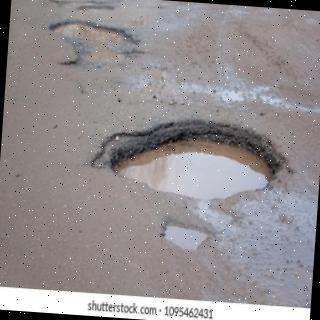pothole: (92, 120, 292, 232), (49, 21, 145, 68), (163, 222, 210, 252)
